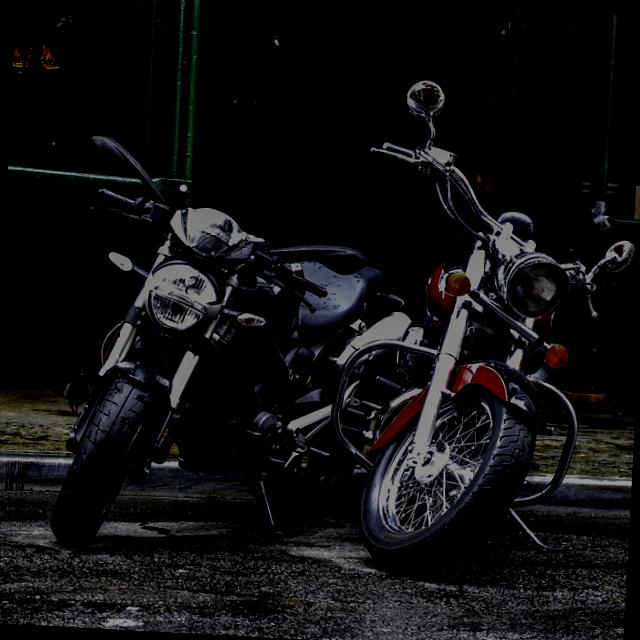Vehicle: (316, 71, 640, 596), (48, 136, 414, 566)
